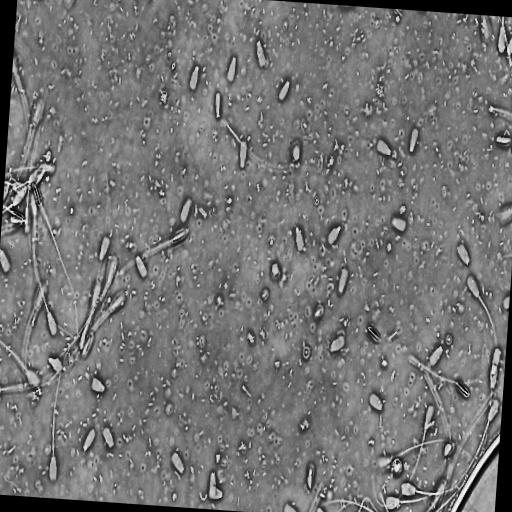loose-head: (427, 342, 446, 369), (455, 239, 472, 269), (134, 251, 150, 281), (97, 233, 112, 263), (170, 449, 186, 477), (337, 264, 351, 296), (329, 332, 348, 355), (178, 195, 192, 226), (82, 426, 98, 452), (225, 53, 238, 85), (367, 390, 385, 413), (256, 38, 268, 71), (101, 423, 115, 450), (277, 76, 291, 103), (375, 137, 392, 159), (188, 63, 200, 94), (239, 134, 249, 171), (327, 224, 342, 248), (490, 347, 502, 377), (408, 125, 420, 154), (47, 355, 64, 375), (89, 375, 106, 394), (295, 225, 305, 254), (207, 485, 224, 502), (391, 215, 407, 233), (489, 362, 499, 390), (208, 470, 217, 495), (215, 90, 222, 120)
normal: (371, 402, 436, 509), (443, 396, 500, 493), (48, 333, 77, 483), (464, 272, 499, 365)
